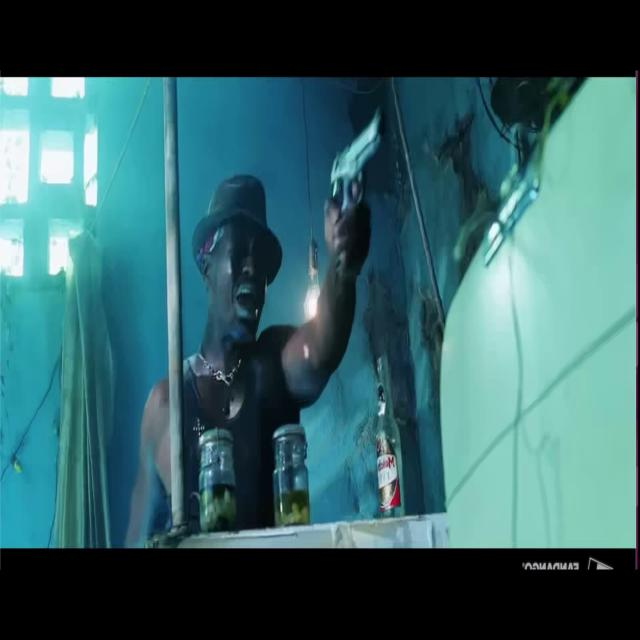weapons: (320, 98, 400, 278)
